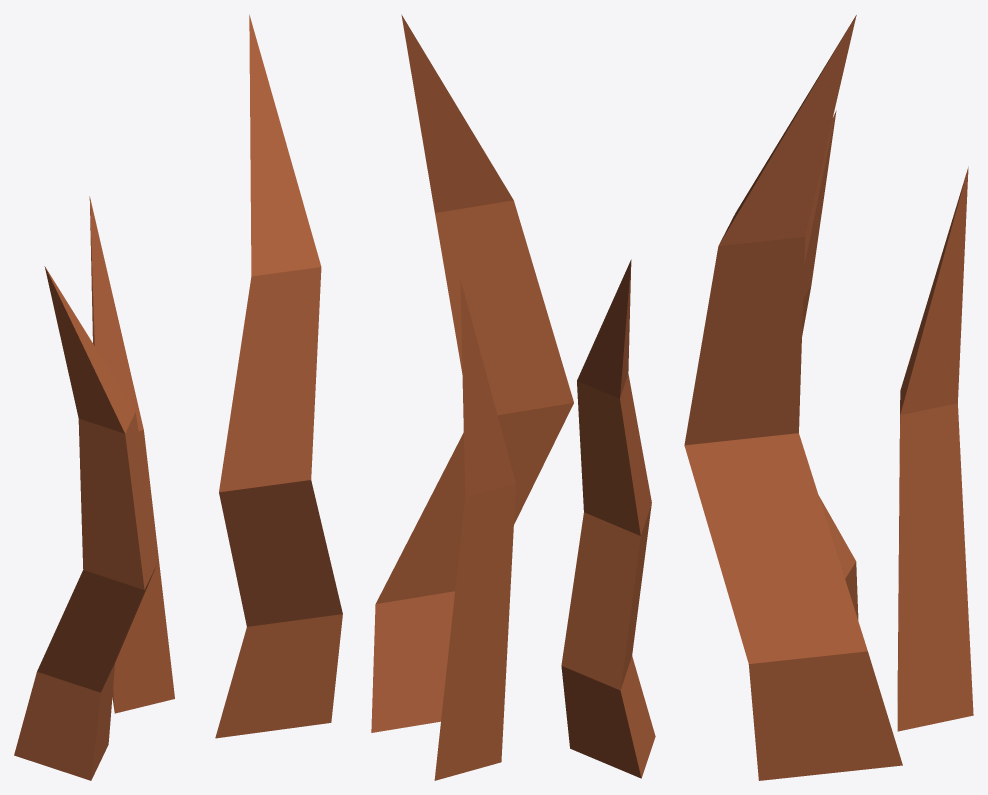
Rendered from RAS_Plant04.fbx.
3 views of the same model, side by side, from view 1: azimuth 30°, elevation 25°; view 2: azimuth 150°, elevation 25°; view 3: azimuth 270°, elevation 25° (orthographic). The views are drawn at different scales.
Parts seen in each view (by area): view 1: RAS_Plant04; view 2: RAS_Plant04; view 3: RAS_Plant04.
Part boxes in pixels (x1,y1,x2,y2): RAS_Plant04: (14, 14, 342, 780); RAS_Plant04: (371, 14, 655, 780); RAS_Plant04: (684, 15, 973, 780).
Size of the model in its own units: 50.22 by 118 by 41.41.
1 material, 1 textured.
